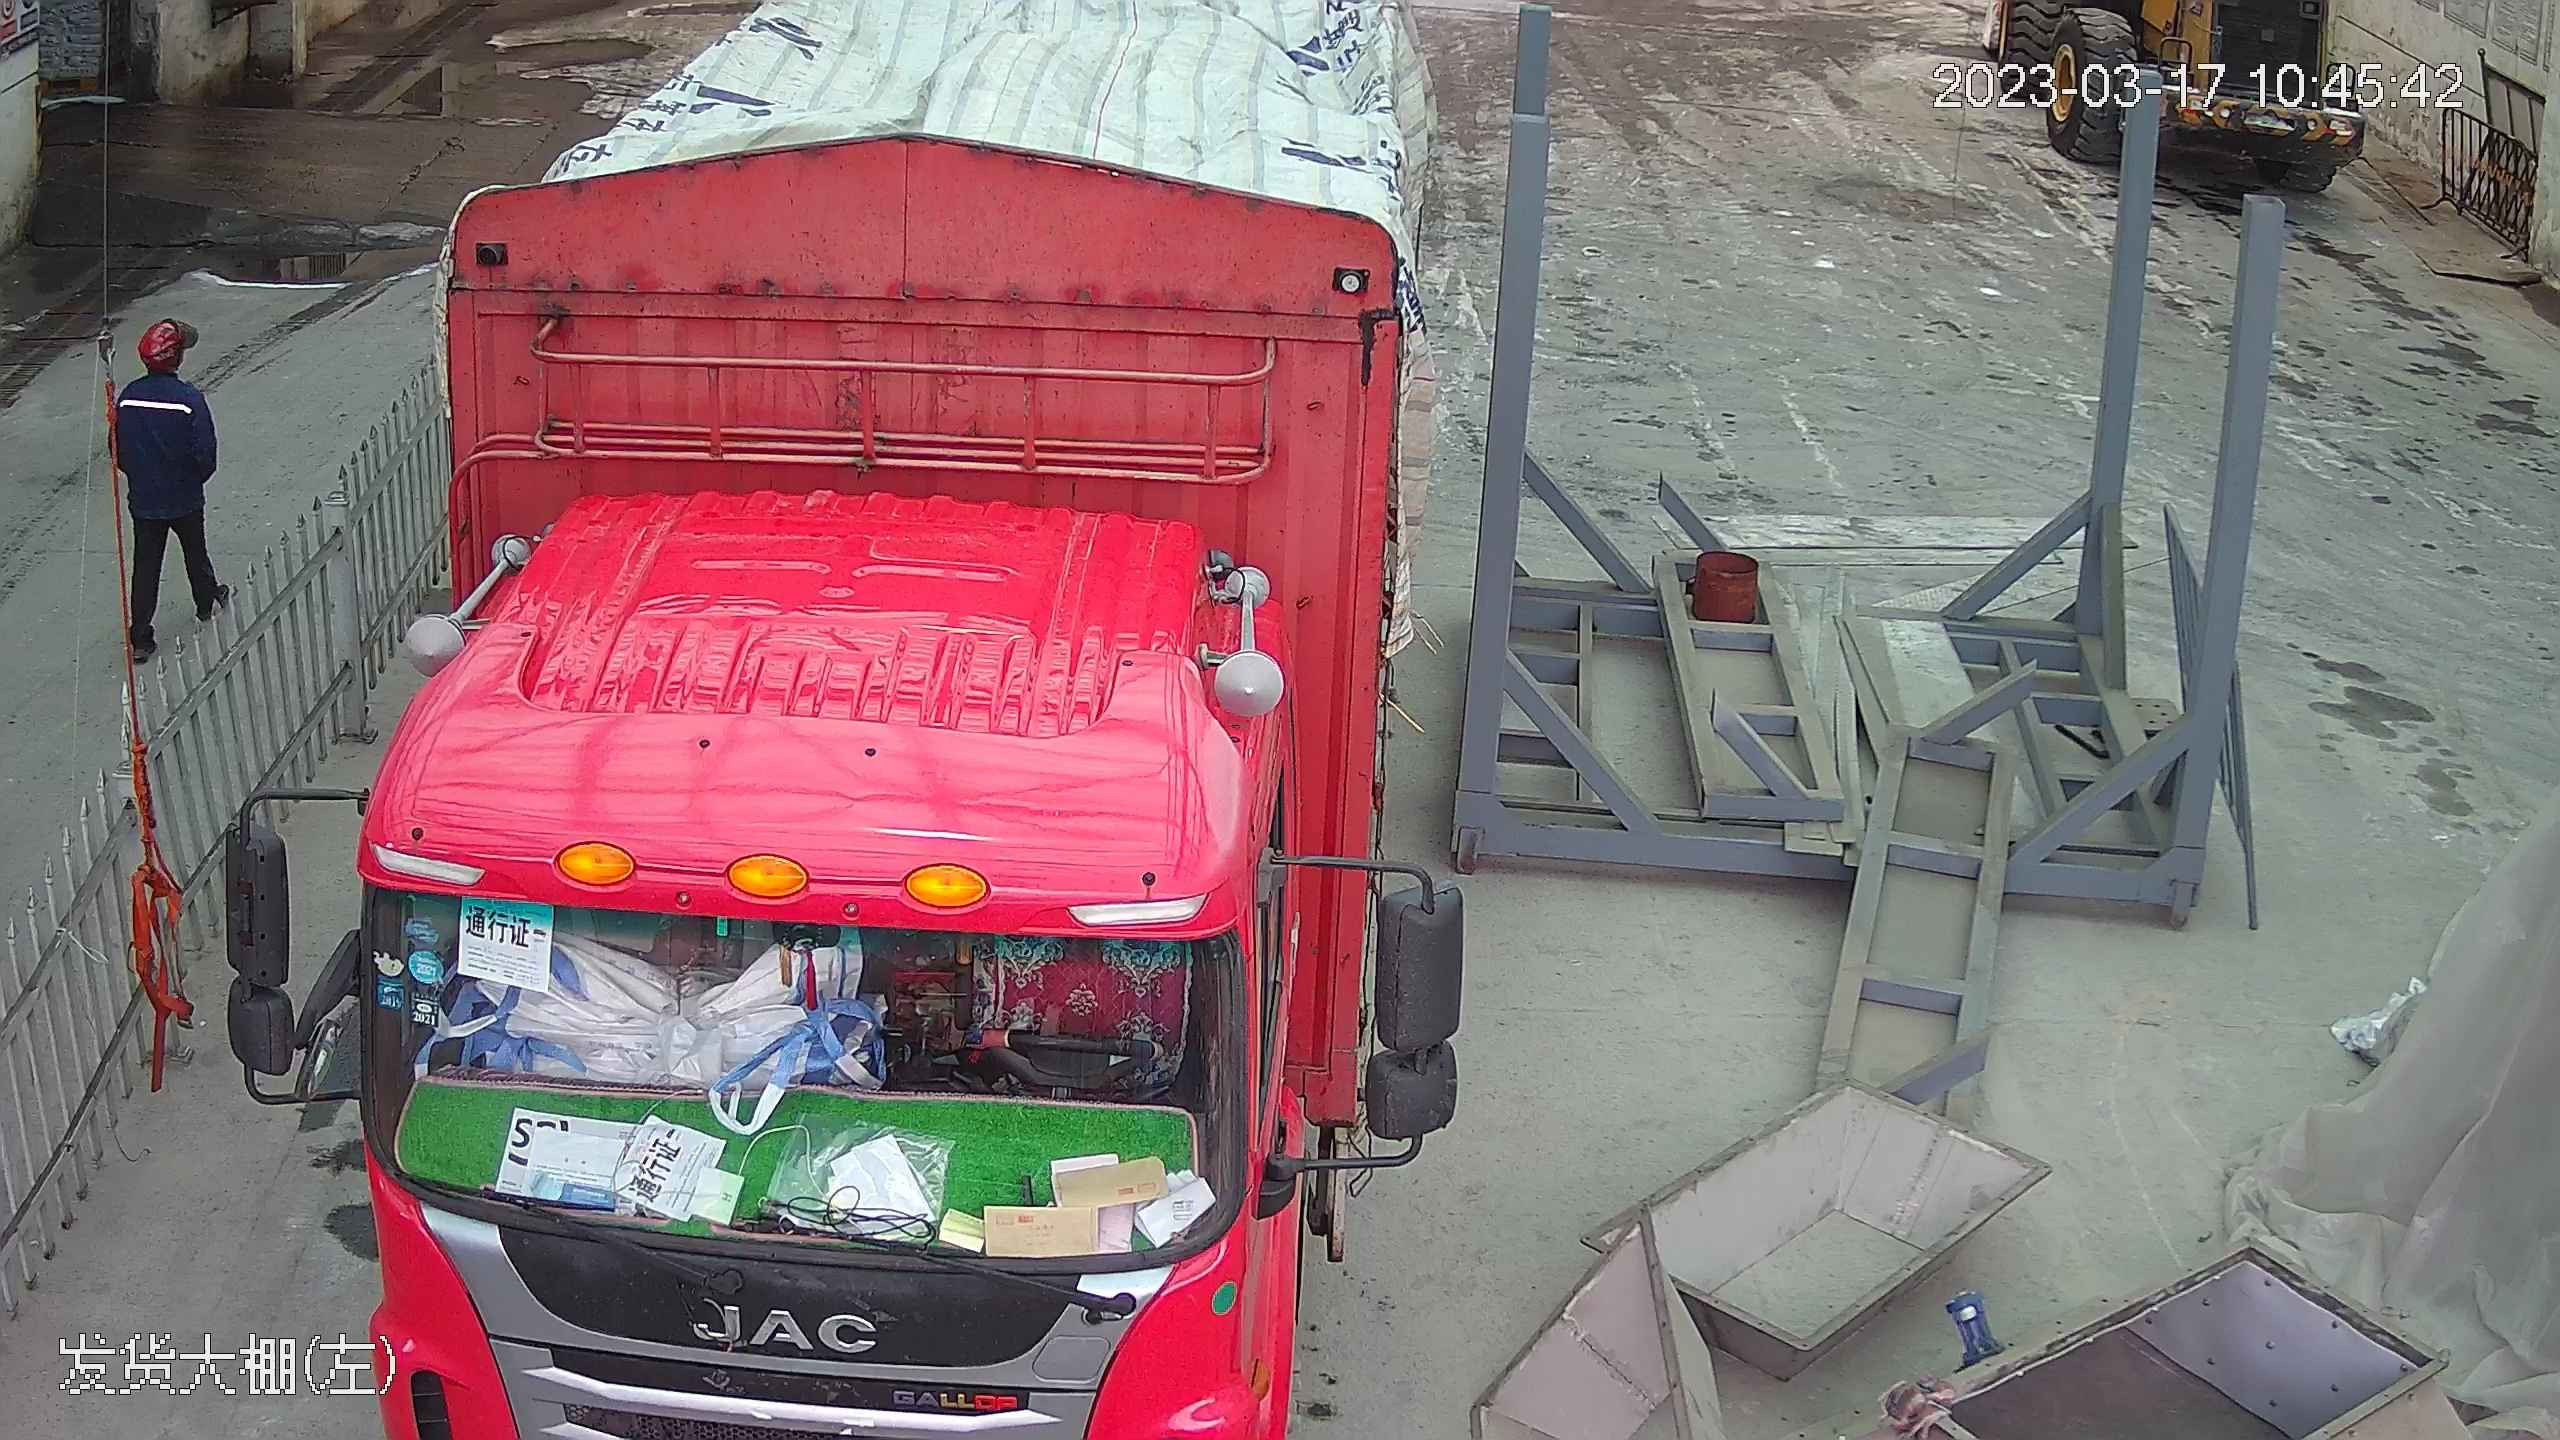head: (113, 316, 206, 419)
helmet: (113, 316, 205, 414), (140, 316, 190, 363)
people: (105, 315, 227, 652)
truck: (270, 15, 1489, 1440)
